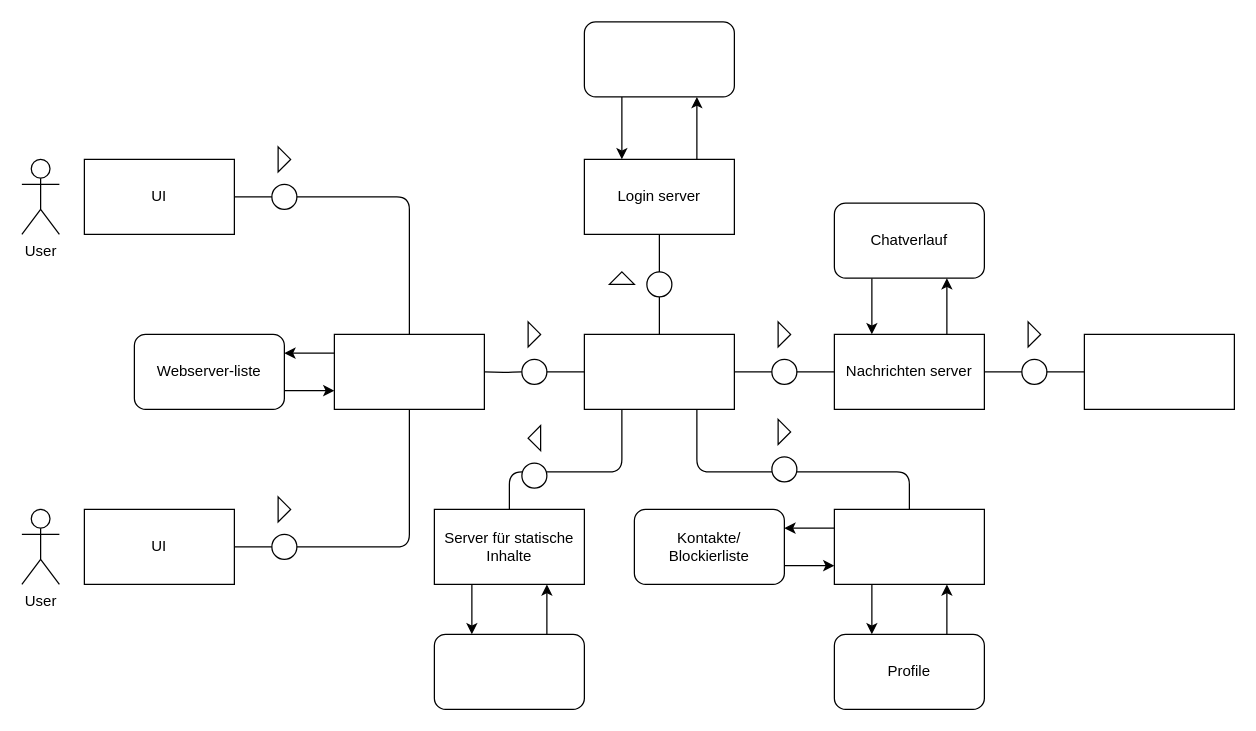
The diagram is 1256 pixels wide and 731 high, and some of its shapes have lost their labels. The box of each missing label's shape, as (x1, y1, x2, y2) in pixels:
Account server: (833, 508, 984, 584)
Load balancer: (333, 333, 484, 409)
Medien/Dateien: (433, 633, 584, 709)
Passwörter: (583, 21, 734, 97)
Verschlüsselungs server: (1083, 333, 1234, 409)
Webserver: (583, 333, 734, 409)
